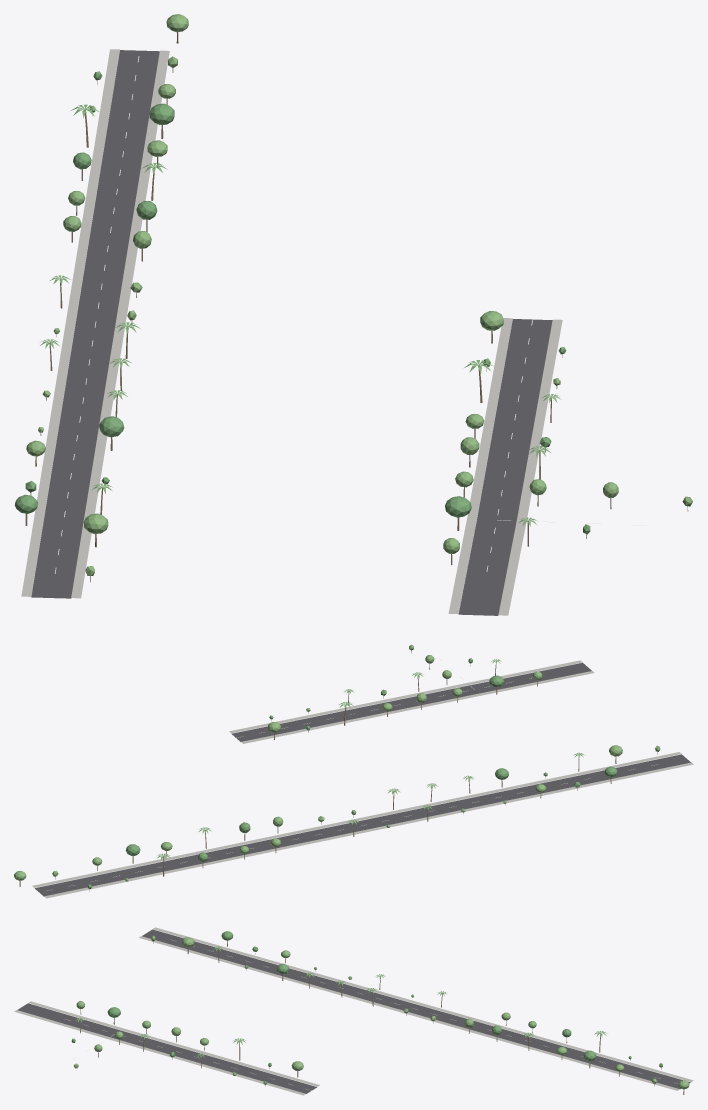
Rendered from tile_-4_-8.glb.
3 renders of one model, top to bottom at view 1: azimuth 30°, elevation 25°; view 2: azimuth 150°, elevation 25°; view 3: azimuth 270°, elevation 25°, orthographic. The views are drawn at different scales.
Visible parts, largest first — view 1: roads_asphalt, roads_sidewalk, nature_foliage_b, nature_foliage_a, nature_palm_leaf, nature_trunk; view 2: roads_asphalt, roads_sidewalk, nature_foliage_b, nature_foliage_a, nature_trunk, nature_palm_leaf; view 3: roads_asphalt, roads_sidewalk, nature_foliage_b, nature_foliage_a, nature_trunk, nature_palm_leaf.
Part boxes in pixels (x1=…): roads_asphalt: x1=31, y1=50, x2=552, y2=615; roads_sidewalk: x1=21, y1=49, x2=562, y2=615; nature_foliage_b: x1=26, y1=14, x2=692, y2=575; nature_foliage_a: x1=14, y1=71, x2=590, y2=534; nature_palm_leaf: x1=40, y1=104, x2=561, y2=526; nature_trunk: x1=25, y1=32, x2=688, y2=582; roads_asphalt: x1=35, y1=662, x2=690, y2=896; roads_sidewalk: x1=32, y1=660, x2=693, y2=898; nature_foliage_b: x1=14, y1=644, x2=660, y2=881; nature_foliage_a: x1=87, y1=658, x2=617, y2=888; nature_trunk: x1=19, y1=651, x2=657, y2=891; nature_palm_leaf: x1=157, y1=659, x2=585, y2=860; roads_asphalt: x1=17, y1=929, x2=690, y2=1093; roads_sidewalk: x1=14, y1=927, x2=693, y2=1095; nature_foliage_b: x1=74, y1=935, x2=689, y2=1089; nature_foliage_a: x1=71, y1=931, x2=662, y2=1084; nature_trunk: x1=79, y1=940, x2=684, y2=1094; nature_palm_leaf: x1=76, y1=946, x2=607, y2=1057.
Bounding box in the file's own units: 161 × 8.78 × 272.
